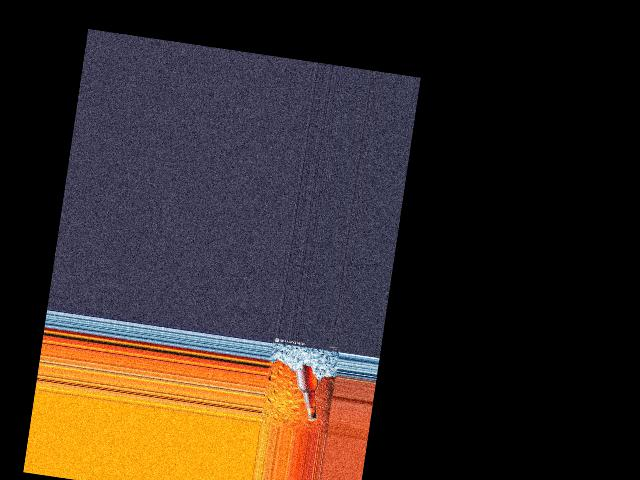beer: (289, 362, 326, 422)
